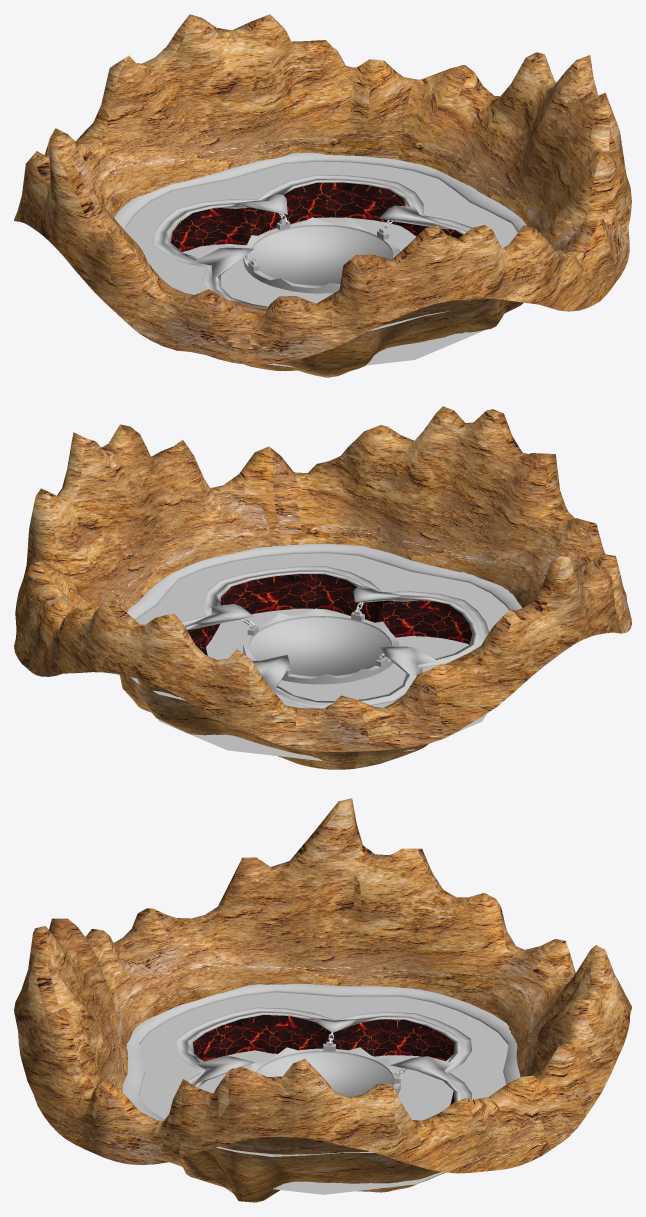
The model's file is dragonArena.fbx.
3 renders of one model, top to bottom at view 1: azimuth 30°, elevation 25°; view 2: azimuth 150°, elevation 25°; view 3: azimuth 270°, elevation 25°, orthographic.
Visible parts, largest first — view 1: Object_20, Object_5, Object_4, Circle; view 2: Object_20, Object_5, Object_4, Circle; view 3: Object_20, Object_5, Object_4, Circle.
Boxes of the visible parts, box(x1,y1,x2,y2) form: Object_20: box(14, 14, 631, 377); Object_5: box(114, 152, 526, 331); Object_4: box(171, 182, 462, 251); Circle: box(182, 217, 483, 367); Object_20: box(14, 406, 631, 769); Object_5: box(127, 543, 522, 708); Object_4: box(187, 574, 472, 655); Circle: box(158, 608, 486, 760); Object_20: box(14, 798, 631, 1202); Object_5: box(122, 984, 520, 1156); Object_4: box(193, 1015, 454, 1104); Circle: box(198, 1050, 453, 1194).
Size of the model in its own units: 113 by 44.29 by 114.
